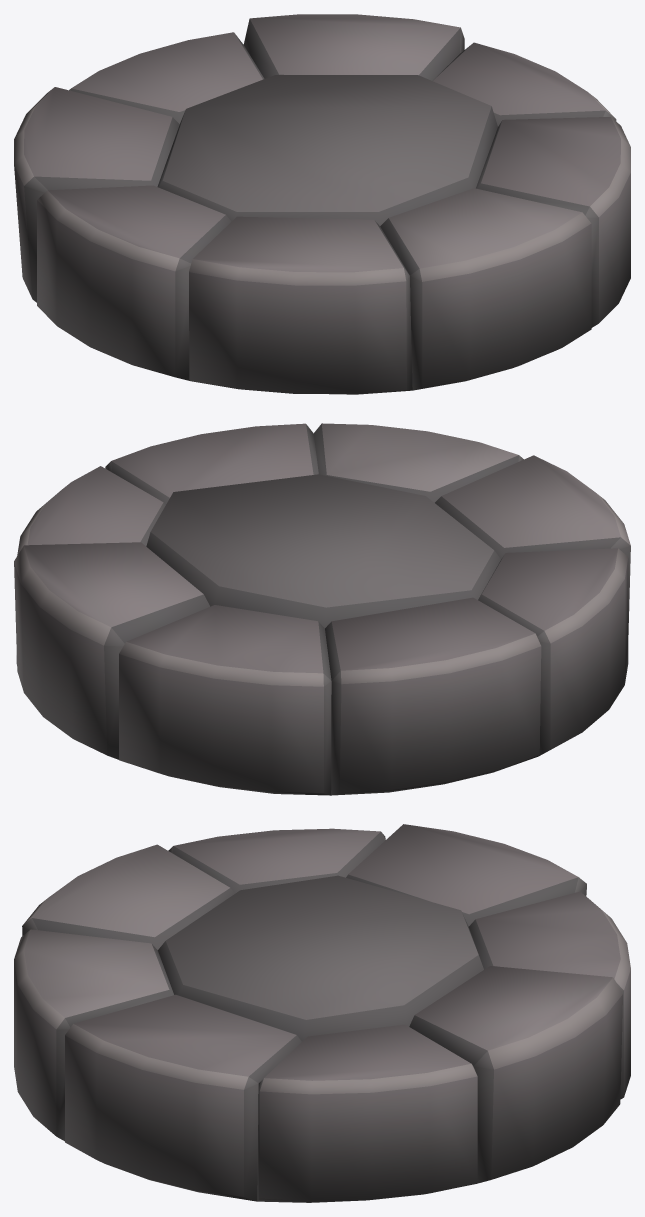
Rendered from elf_stone_base.fbx.
3 views of the same model, one above another, from view 1: azimuth 30°, elevation 25°; view 2: azimuth 150°, elevation 25°; view 3: azimuth 270°, elevation 25° (orthographic).
Parts seen in each view (by area): view 1: elf_stone_base; view 2: elf_stone_base; view 3: elf_stone_base.
Boxes of the visible parts, left/top/right/bottom form: elf_stone_base: left=14, top=14, right=630, bottom=394; elf_stone_base: left=14, top=423, right=630, bottom=795; elf_stone_base: left=14, top=824, right=630, bottom=1202.
Bounding box in the file's own units: 378 × 94.04 × 378.
